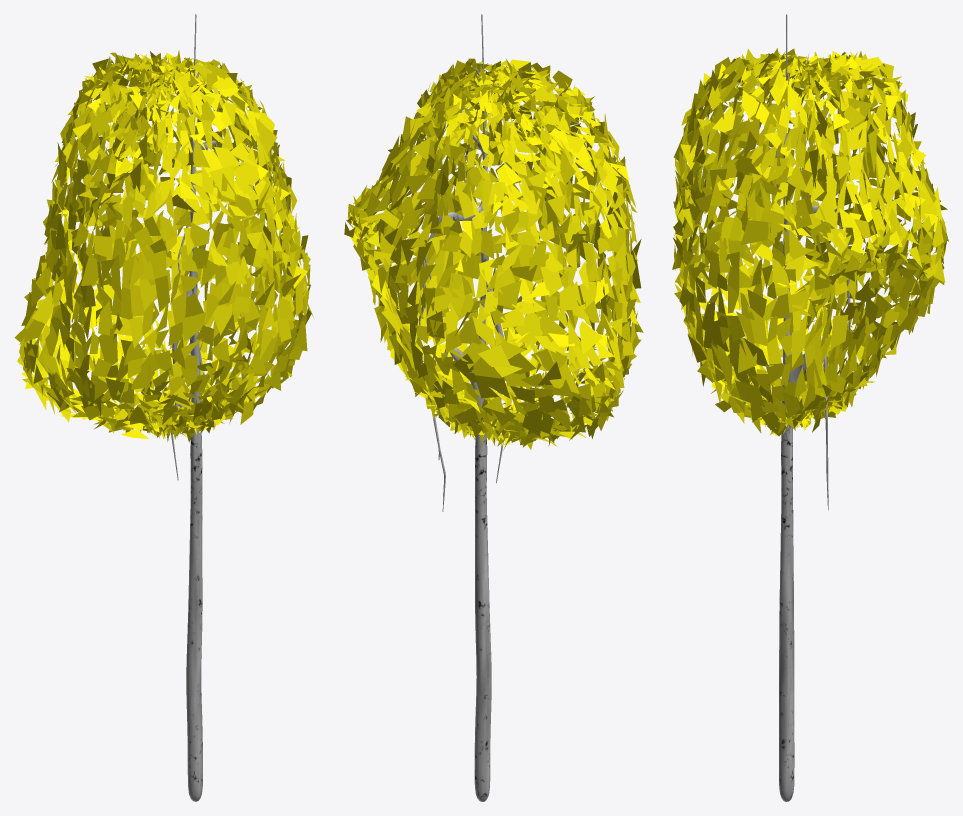
The model's file is Leaves55.002.fbx.
The picture shows the model from 3 angles, left to right: view 1: azimuth 30°, elevation 25°; view 2: azimuth 150°, elevation 25°; view 3: azimuth 270°, elevation 25°; orthographic projection.
Parts seen in each view (by area): view 1: Leaves55.002; view 2: Leaves55.002; view 3: Leaves55.002.
Part boxes in pixels (x1,y1,x2,y2): Leaves55.002: (14, 14, 314, 801); Leaves55.002: (344, 14, 643, 801); Leaves55.002: (672, 14, 948, 801).
Bounding box in the file's own units: 903 × 2574 × 820.
Materials: 2 (1 with a texture image).
